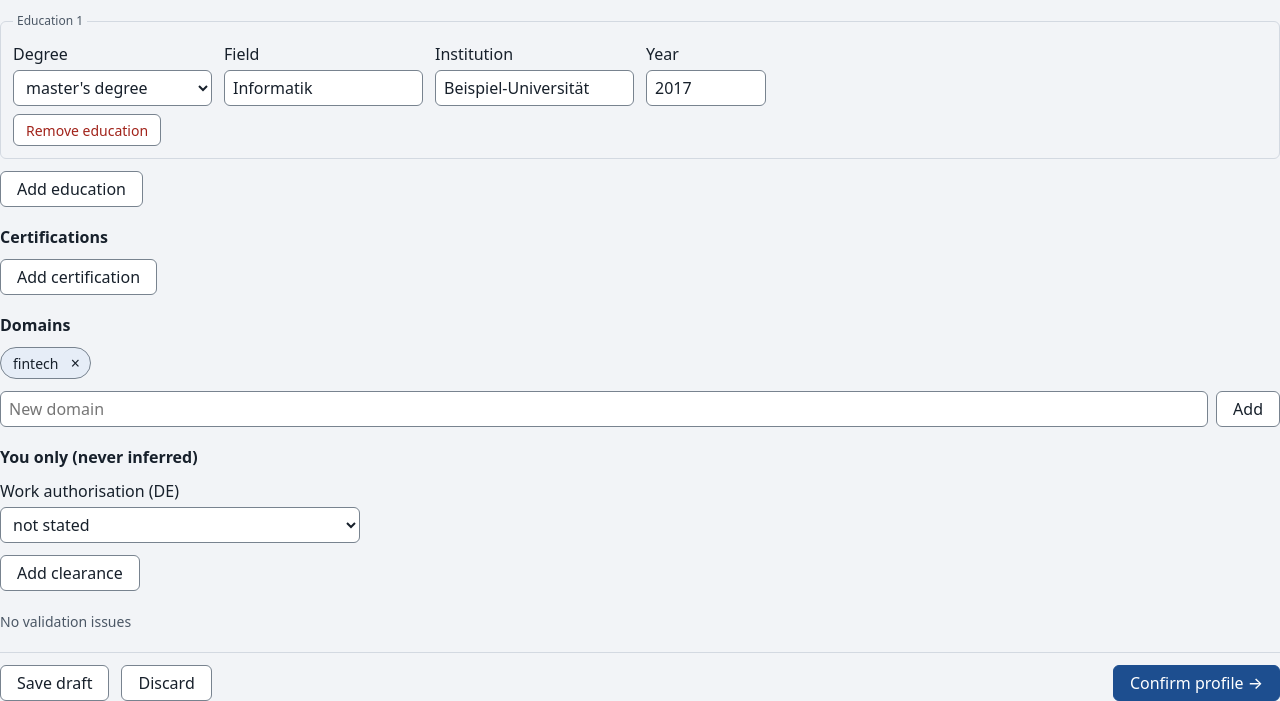
Test case: ProfileReview › a confirm's 422 closes the modal and shows its errors at their fields
(page scrolled)
Step 1. Click the button "Confirm profile →" → [1196, 683], box [1113,665,1279,700]
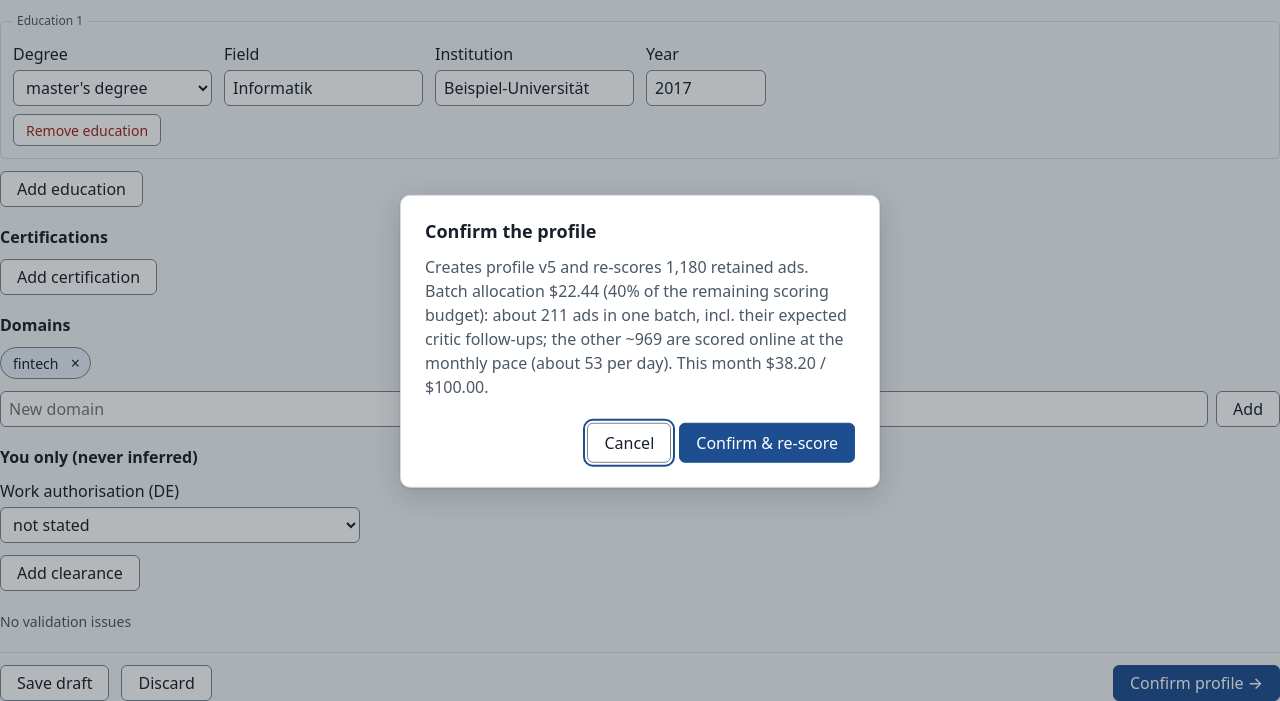
Expected: the text "Creates profile v5" is shown, [425,255,847,397]
Step 2. Click the button "Confirm & re-score" → [767, 442], box [679,422,855,462]
(page scrolled)
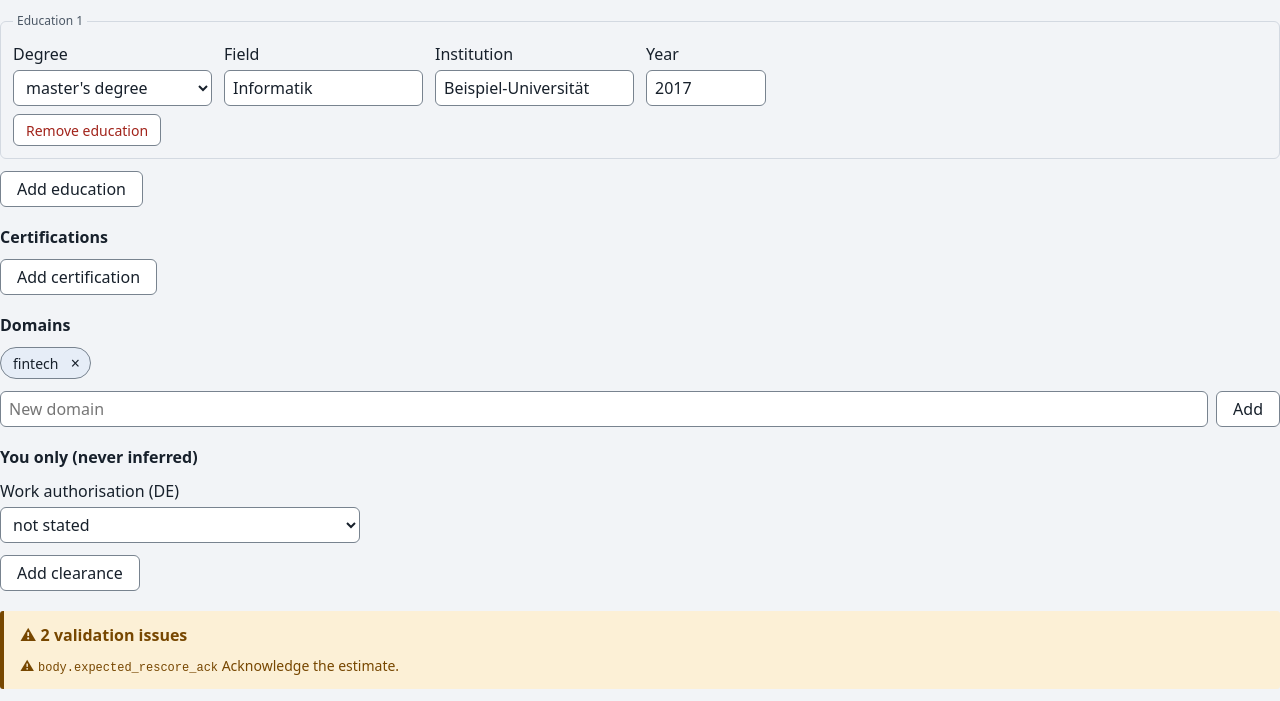
Expected: the dialog is gone
Expected: the text "body.expected_rescore_ack" is shown, [38,661,218,675]
